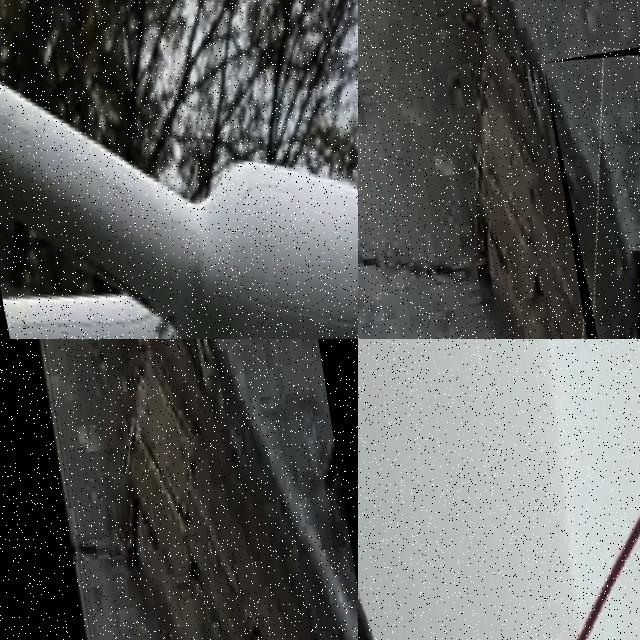drone: (0, 0, 358, 339), (358, 339, 640, 640), (543, 38, 640, 339)
